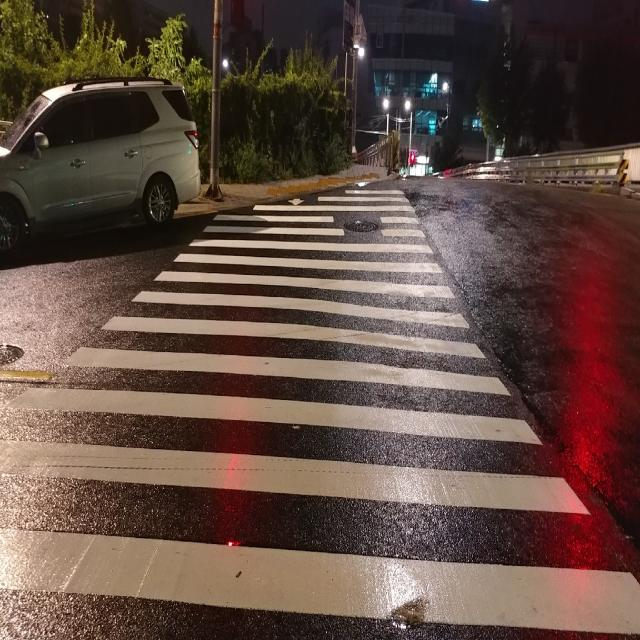횡단보도: (0, 180, 639, 638)
